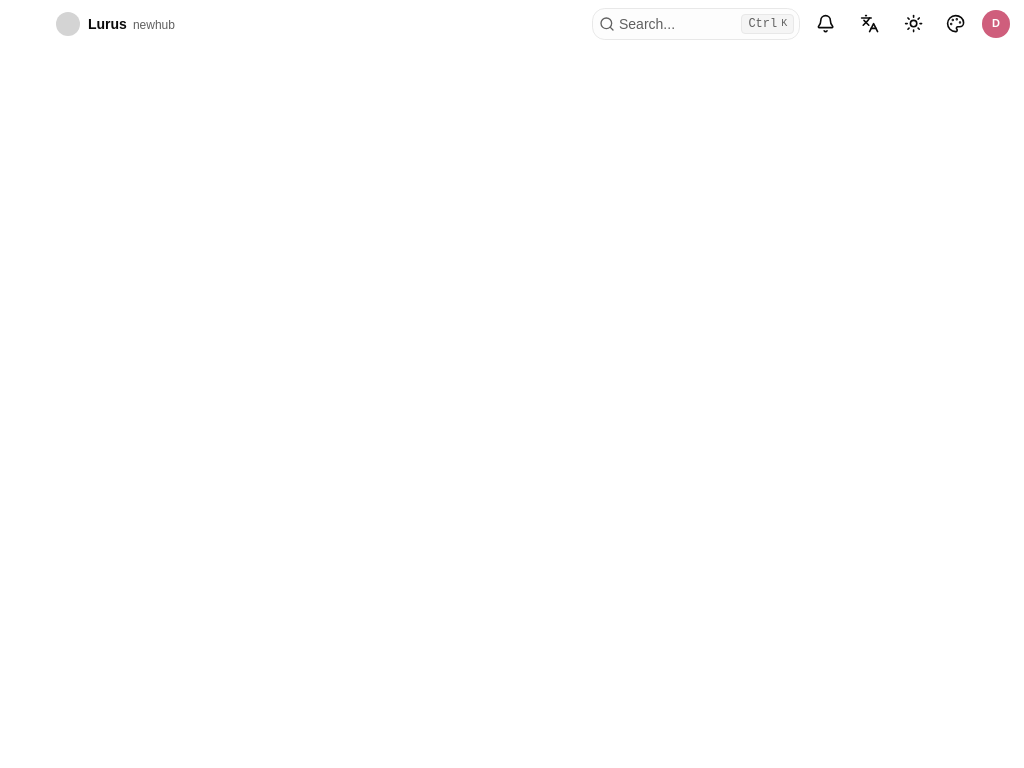
Test: notifications › says so when the notice cannot be loaded
The image size is (1024, 768).
Click the button named "Notifications" at x=826, y=24, box [808,6,844,42]
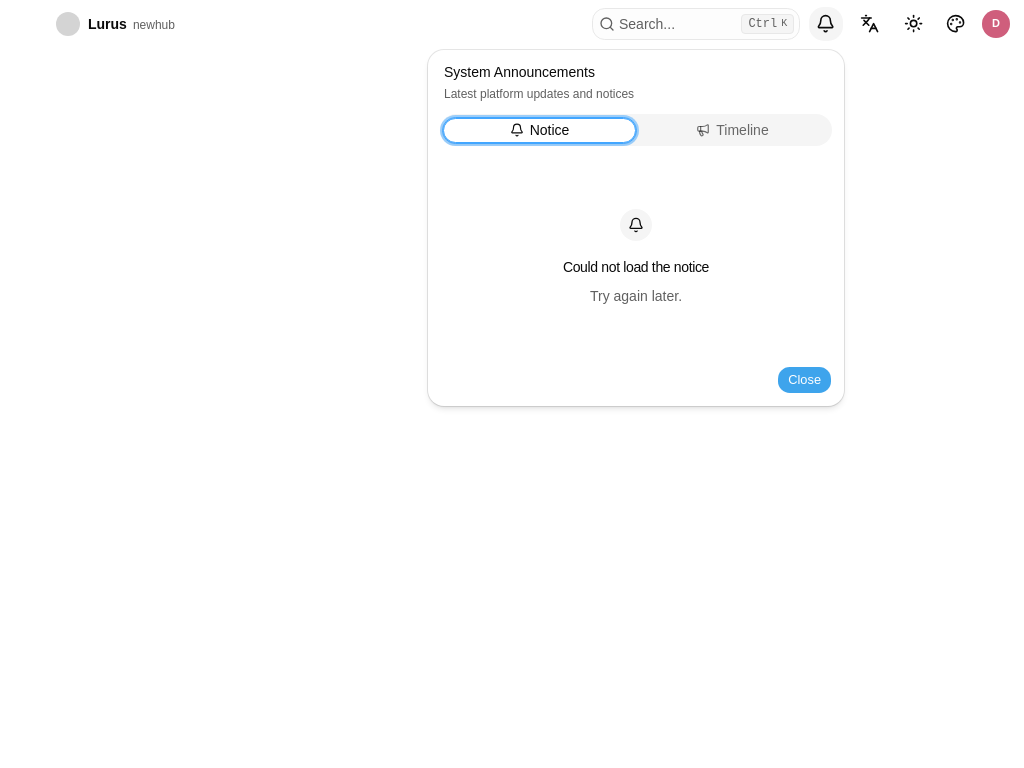
Expected: the text "Could not load the notice" is shown, [563,257,709,277]
